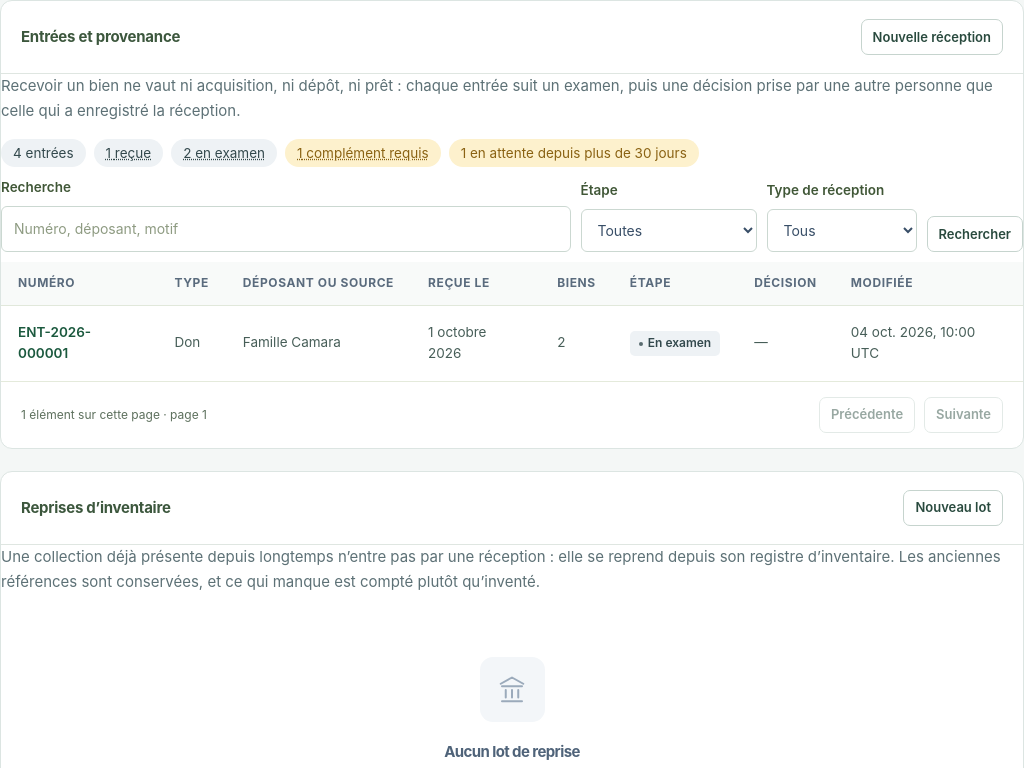
Test: sans l’habilitation de décision, accepter est grisé et nomme l’habilitation requise
Click the button "ENT-2026-000001". click: x=79, y=343
box: [18,322,140,365]
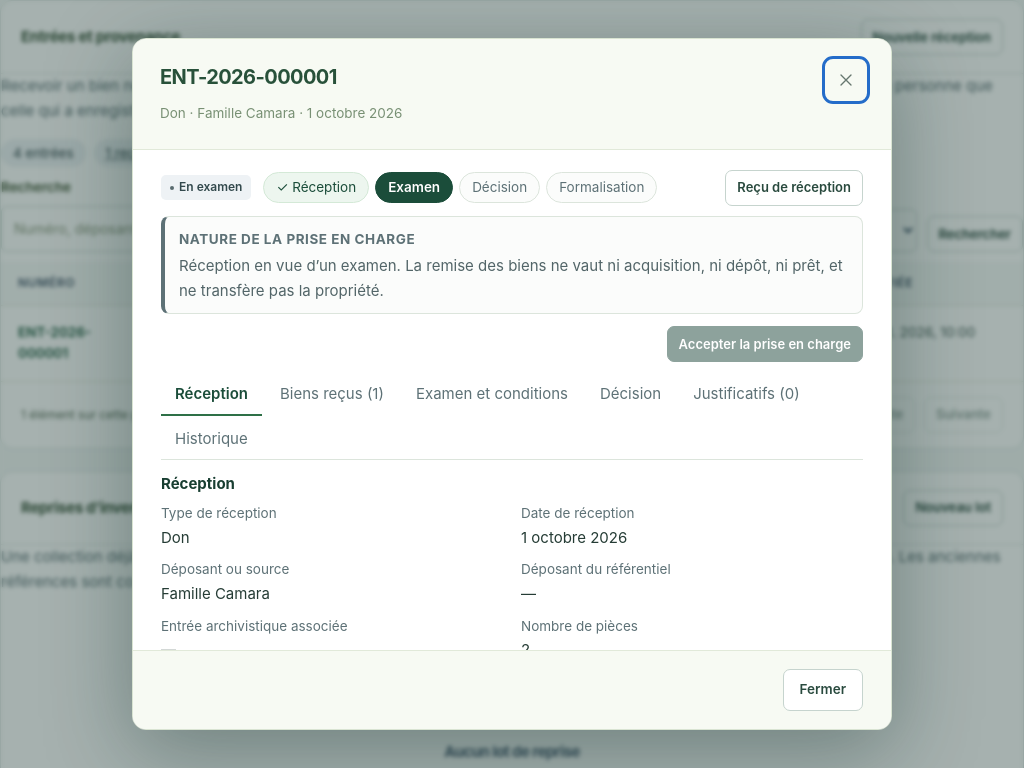
Expected: the button "Accepter la prise en charge" is disabled, [667,326,863,362]
